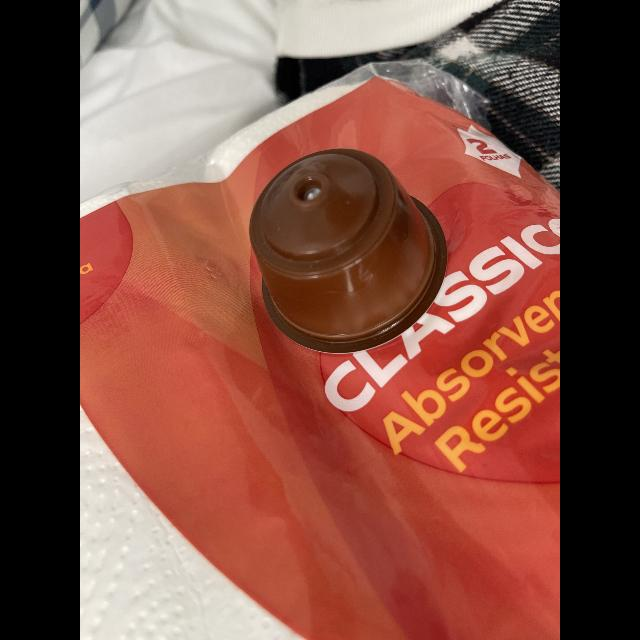intact_capsule: (235, 138, 458, 356)
